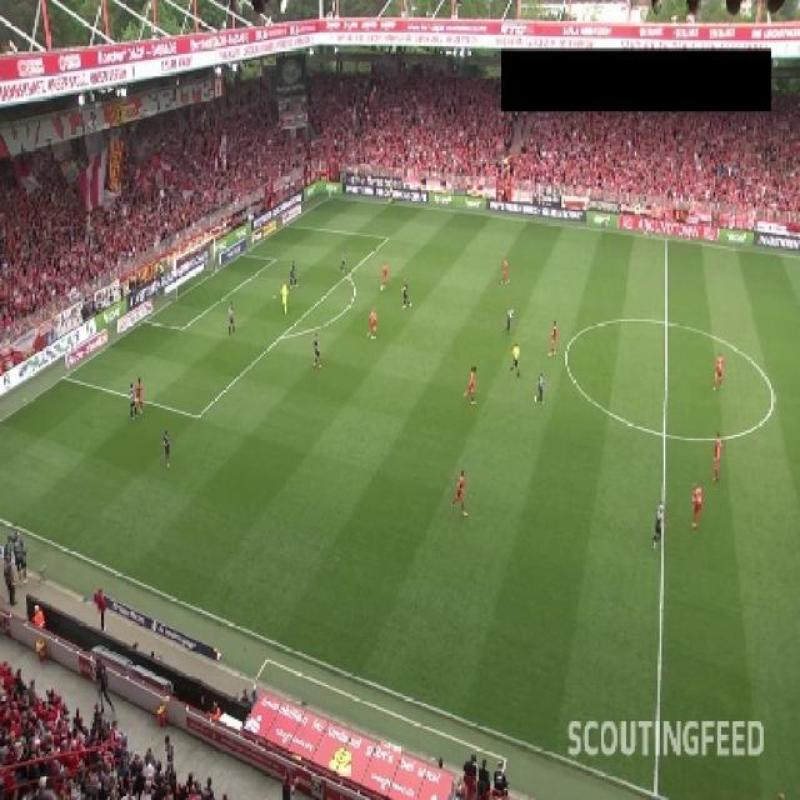1: (320, 188, 340, 206)
10: (338, 270, 356, 284)
11: (273, 324, 291, 344)
12: (188, 404, 208, 428)
13: (656, 227, 680, 252)
14: (654, 306, 682, 334)
15: (650, 413, 679, 452)
16: (638, 780, 672, 800)
2: (276, 213, 294, 233)
3: (234, 245, 250, 263)
4: (134, 310, 155, 329)
5: (54, 366, 75, 386)
7: (268, 248, 286, 267)
8: (170, 315, 190, 339)
9: (379, 228, 397, 247)
c: (554, 342, 580, 376), (758, 386, 786, 415)
